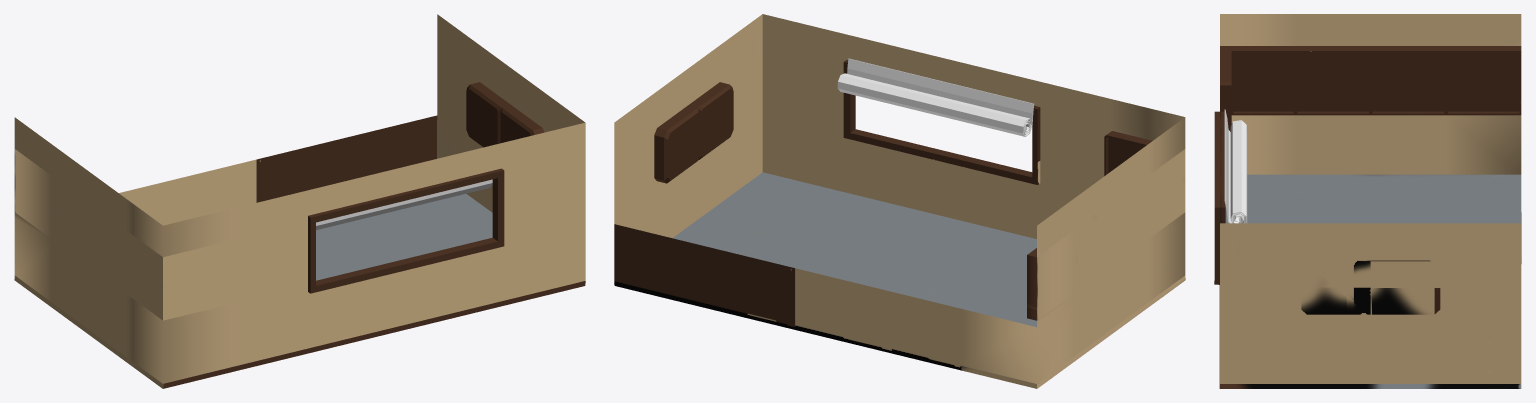
Rendered from cocinaEscenario.fbx.
3 renders of one model, left to right at view 1: azimuth 30°, elevation 25°; view 2: azimuth 150°, elevation 25°; view 3: azimuth 270°, elevation 25°, orthographic.
Parts seen in each view (by area): view 1: Plane.001; view 2: Plane.001; view 3: Plane.001.
Boxes of the visible parts, x1,y1,x2,y2 form: Plane.001: (14, 14, 585, 388); Plane.001: (614, 14, 1185, 388); Plane.001: (1214, 14, 1521, 388).
Bounding box in the file's own units: 28052 × 10345 × 17372.
